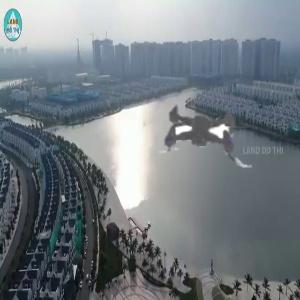drone: (109, 41, 287, 219)
